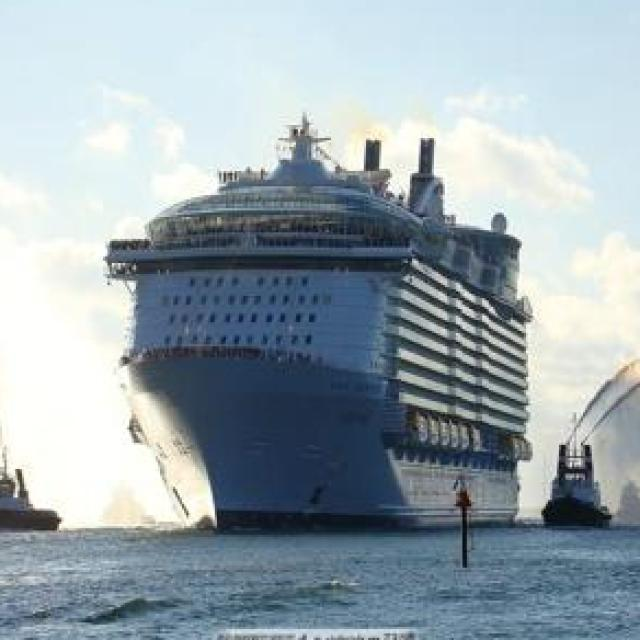passenger ship: (138, 110, 522, 526), (539, 429, 619, 522)
